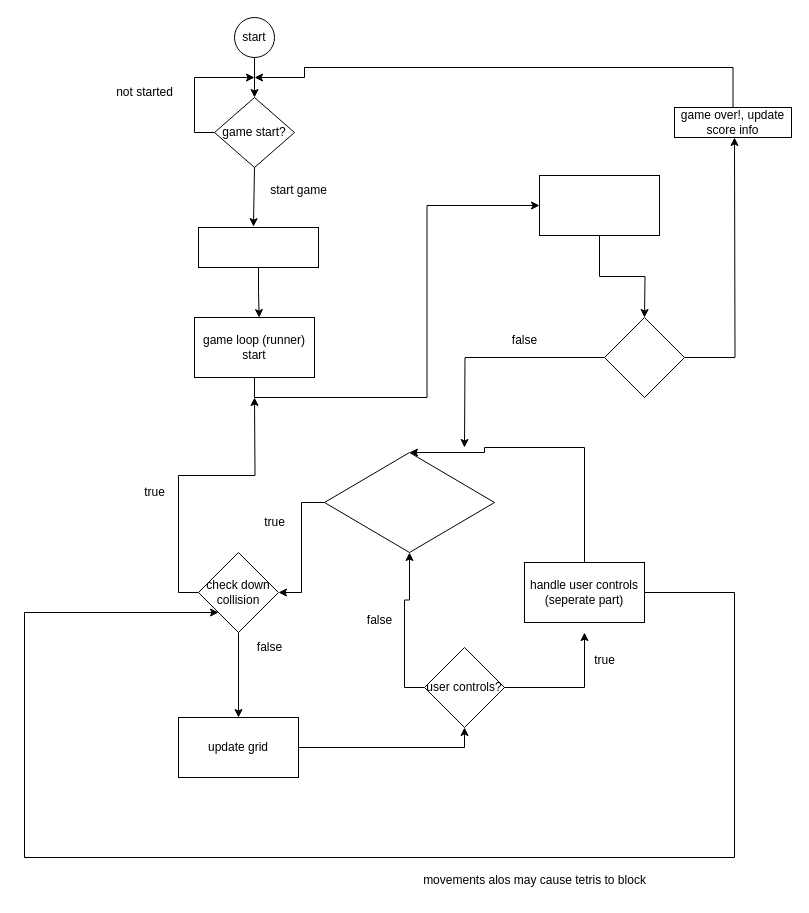
Image size: 809x913. Some labels were removed from this diagram. The shapes that lost their labels are listed below. From the top down, each one's box as (x1, y1, x2, y2) in pixels, then its label:
(538, 174, 660, 236): spawn new tetris
(198, 226, 318, 268): clear grid
(604, 316, 684, 398): tetris reach grid height
(324, 452, 494, 552): down move update time reached ?
